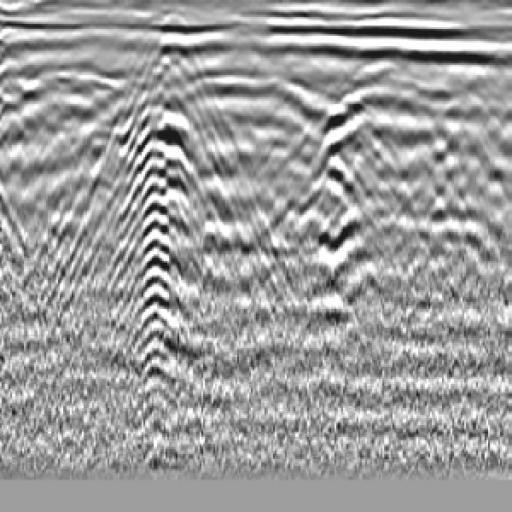metalic: (153, 55, 322, 335), (98, 73, 239, 380)
non-metallic: (276, 51, 439, 341)
